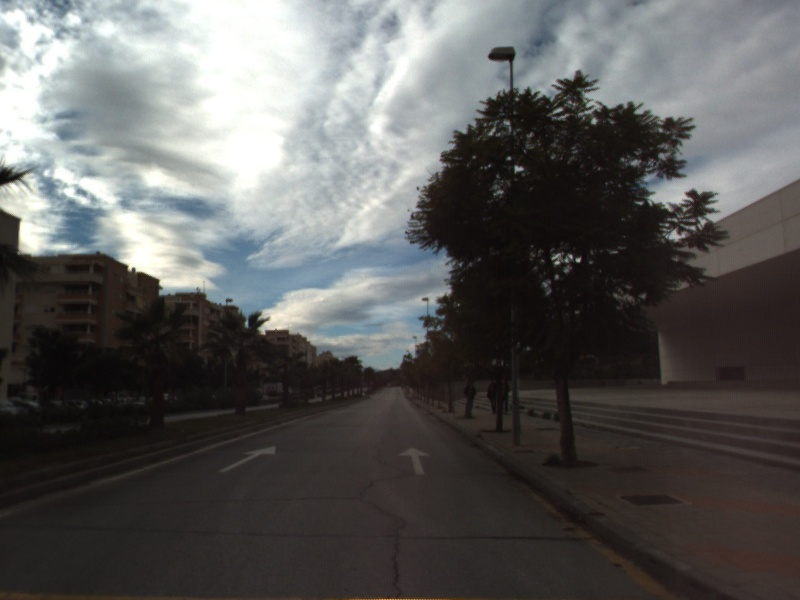STRAIGHT: (216, 443, 278, 474), (396, 445, 432, 477)
